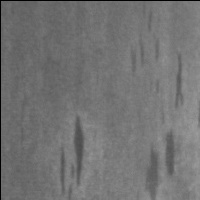inclusion: (129, 3, 162, 95), (55, 113, 88, 200), (161, 125, 184, 183), (142, 137, 162, 200), (169, 49, 188, 111)
